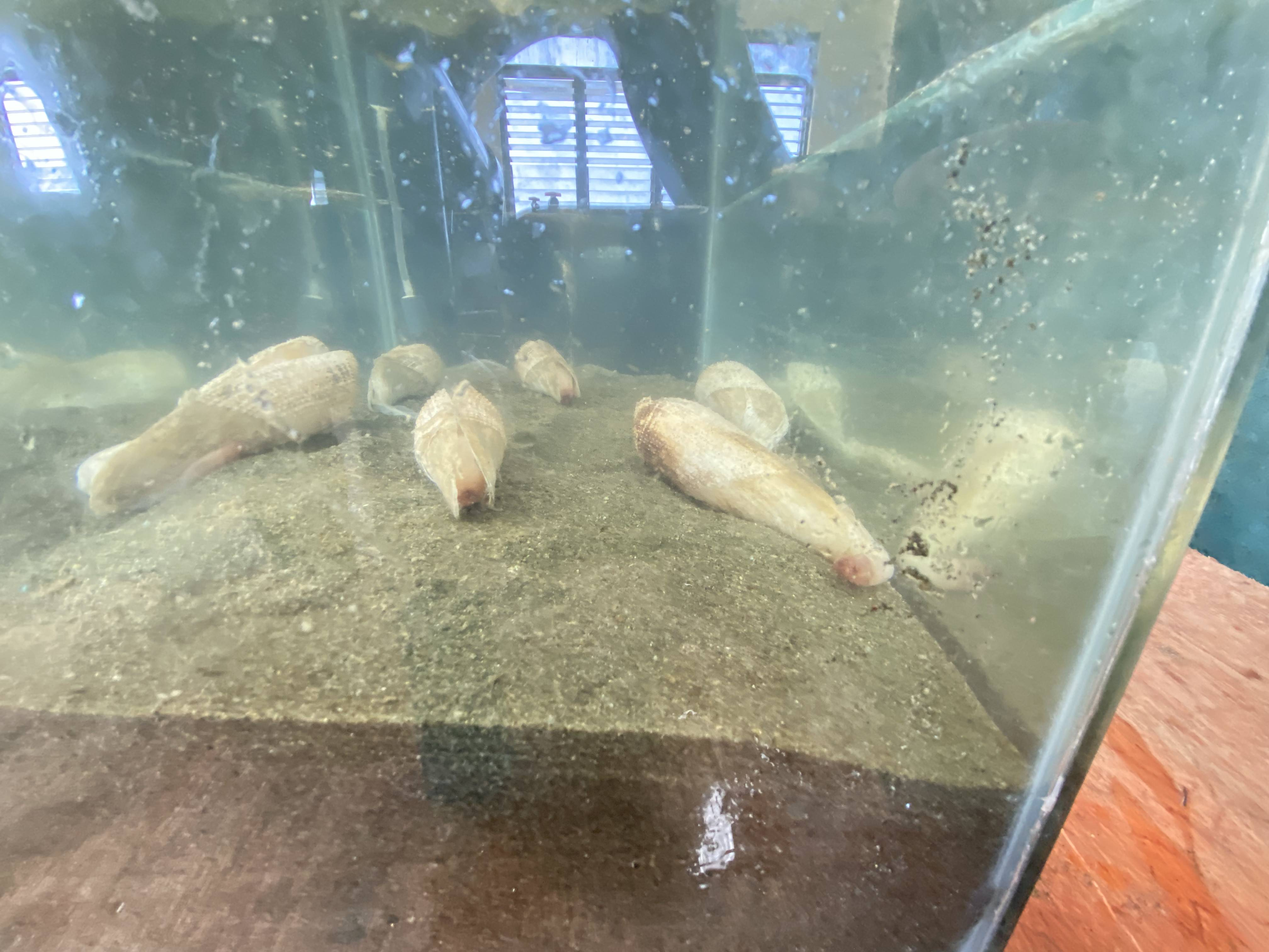At risk: (81, 337, 358, 513), (634, 398, 892, 586), (414, 380, 506, 518), (695, 361, 789, 449), (368, 343, 445, 409), (515, 340, 580, 404), (524, 343, 532, 353)
